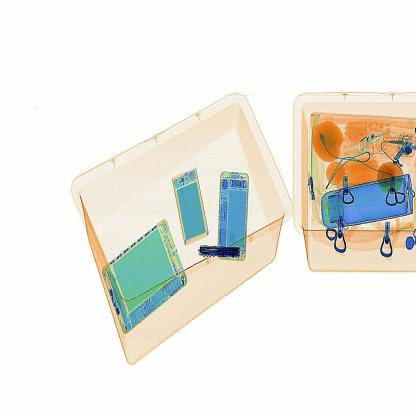scissors: (195, 244, 242, 264)
